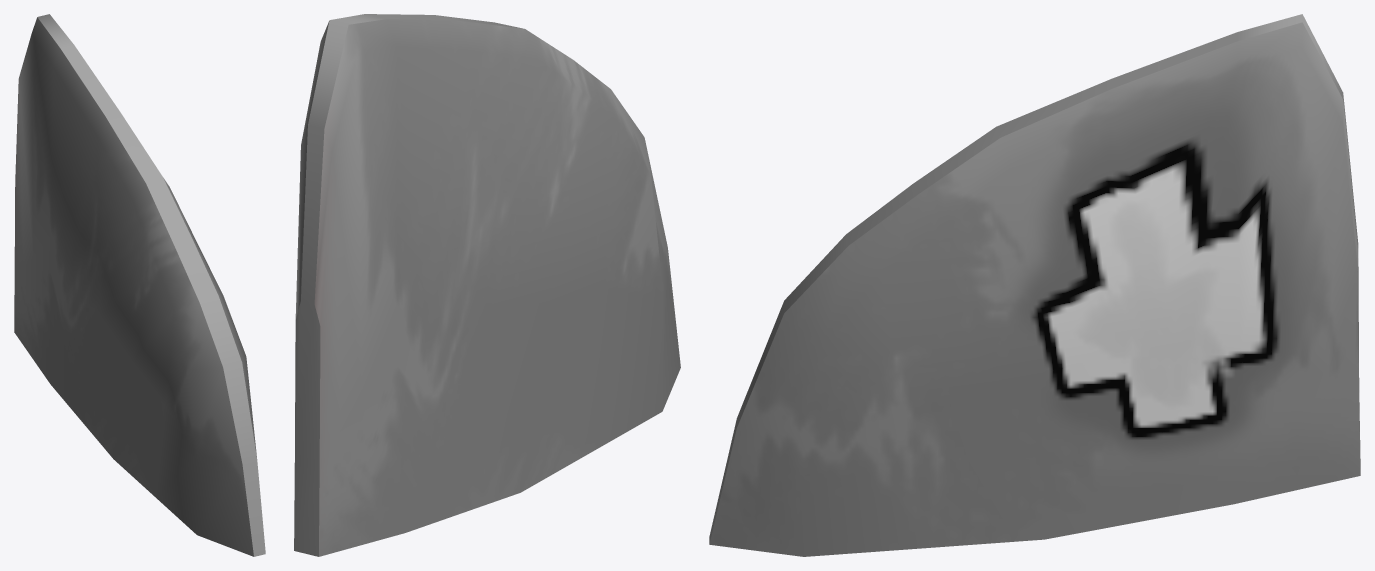
File: TailFin2.FBX
3 views of the same model, side by side, from view 1: azimuth 30°, elevation 25°; view 2: azimuth 150°, elevation 25°; view 3: azimuth 270°, elevation 25° (orthographic). The views are drawn at different scales.
Parts seen in each view (by area): view 1: TailFin002; view 2: TailFin002; view 3: TailFin002.
Boxes of the visible parts, box(x1,y1,x2,y2) form: TailFin002: box(14, 14, 265, 556); TailFin002: box(294, 14, 680, 556); TailFin002: box(709, 14, 1360, 556).
Size of the model in its own units: 2.4 by 15.42 by 17.41.
1 material, 1 textured.
